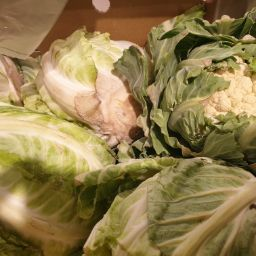Cauliflower: (1, 50, 168, 256), (71, 20, 256, 196)
